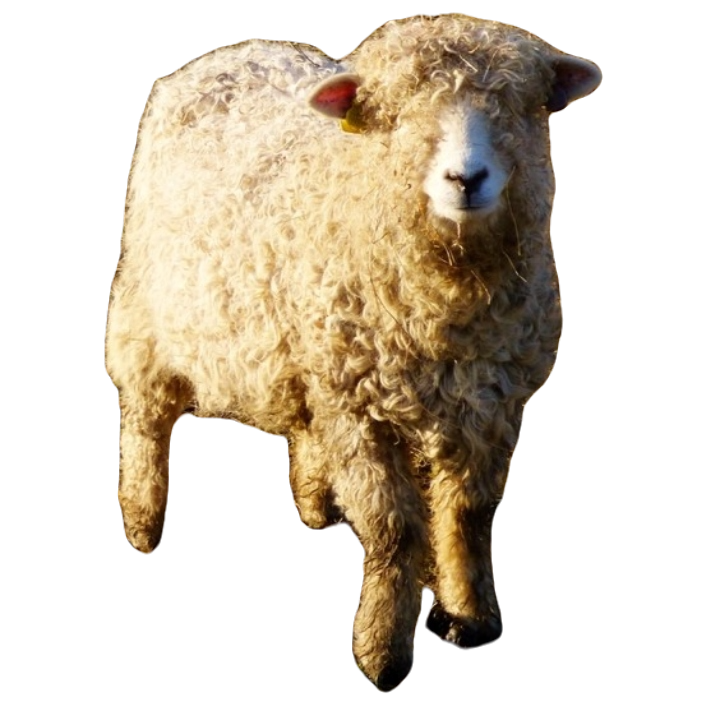Sheep: (100, 9, 611, 695)
